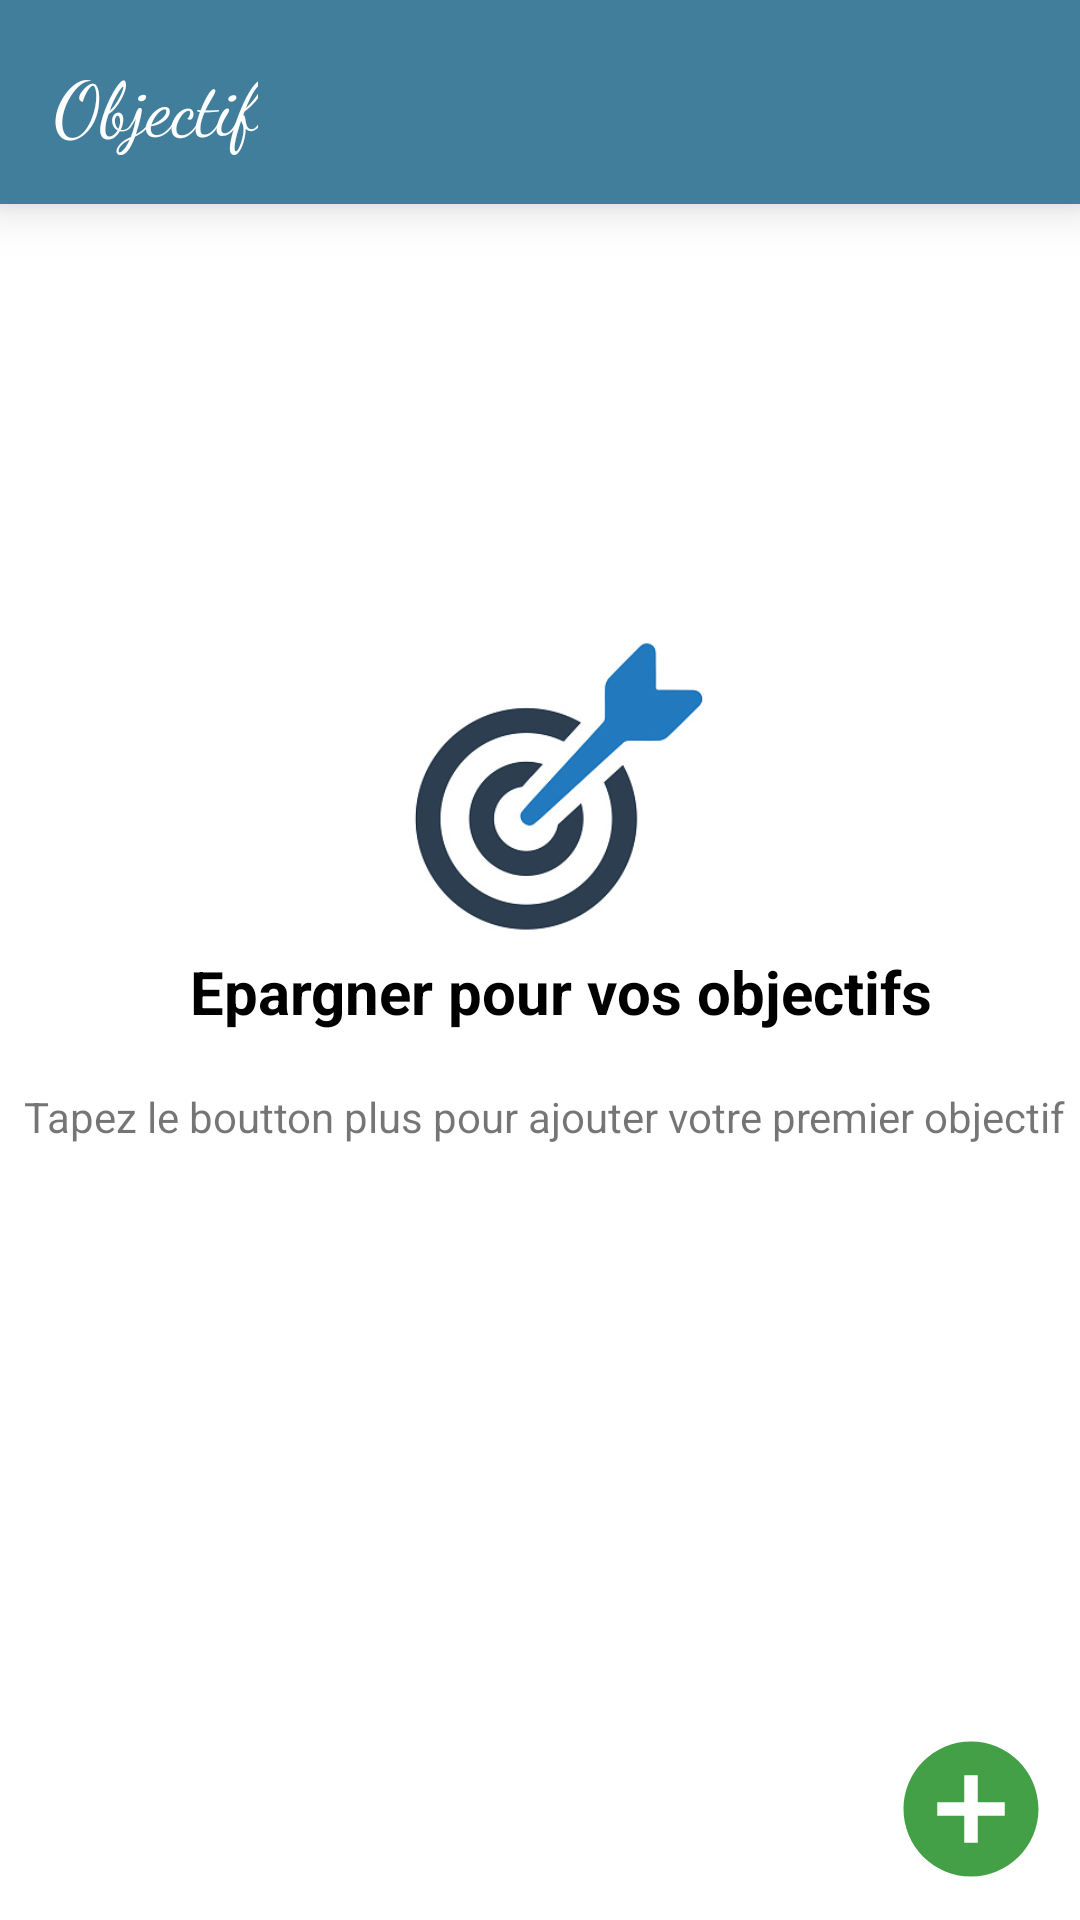

Icon click points for this 1080 x 1920 phone screenshot, format point (x, y):
add circle: point (971, 1809)
